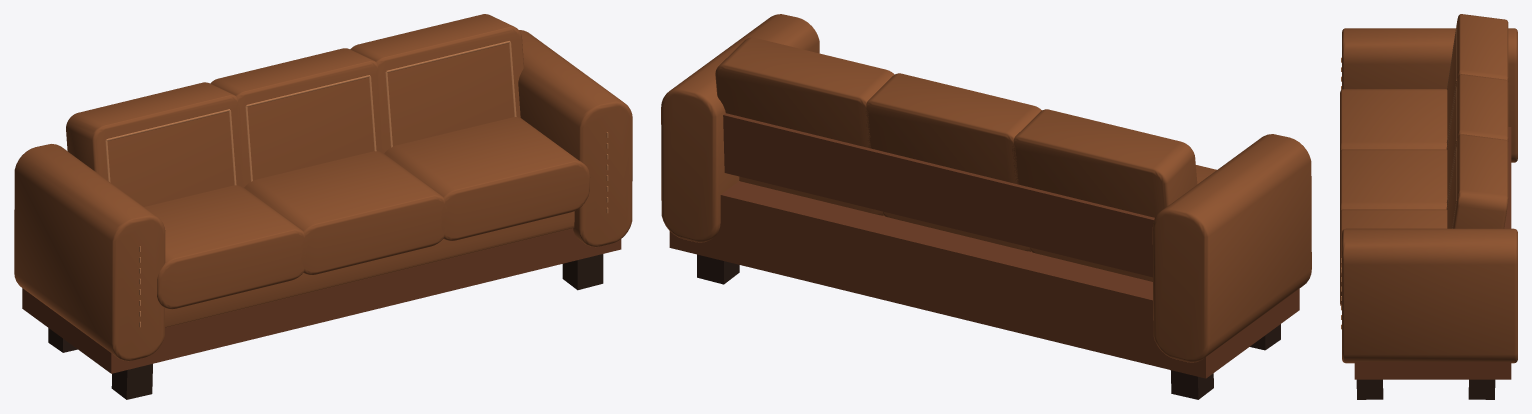
The model's file is cognac-leather-sofa-backRadius-min.glb.
The picture shows the model from 3 angles, left to right: view 1: azimuth 30°, elevation 25°; view 2: azimuth 150°, elevation 25°; view 3: azimuth 270°, elevation 25°; orthographic projection. The views are drawn at different scales.
Parts seen in each view (by area): view 1: sofa-part-28, sofa-part-4, back-cushion-3-part-0, seat-cushion-1-part-0, seat-cushion-2-part-0, back-cushion-1-part-0, back-cushion-2-part-0, seat-cushion-3-part-0, sofa-part-7, sofa-part-5, sofa-part-0, sofa-part-2; view 2: sofa-part-4, sofa-part-28, sofa-part-6, back-cushion-3-part-0, back-cushion-1-part-0, back-cushion-2-part-0, sofa-part-7, sofa-part-3, sofa-part-1, seat-cushion-3-part-0, seat-cushion-2-part-0, seat-cushion-1-part-0; view 3: sofa-part-7, sofa-part-28, seat-cushion-2-part-0, seat-cushion-3-part-0, back-cushion-1-part-0, back-cushion-2-part-0, back-cushion-3-part-0, sofa-part-4, seat-cushion-1-part-0, sofa-part-0, sofa-part-1.
Part boxes in pixels (<box>): sofa-part-28: <box>14,144,165,361</box>; sofa-part-4: <box>22,228,621,373</box>; back-cushion-3-part-0: <box>66,82,245,206</box>; seat-cushion-1-part-0: <box>384,117,590,240</box>; seat-cushion-2-part-0: <box>244,151,447,275</box>; back-cushion-1-part-0: <box>350,14,523,153</box>; back-cushion-2-part-0: <box>210,48,384,187</box>; seat-cushion-3-part-0: <box>144,185,307,309</box>; sofa-part-7: <box>518,30,632,247</box>; sofa-part-5: <box>165,211,574,327</box>; sofa-part-0: <box>562,254,603,290</box>; sofa-part-2: <box>111,364,152,399</box>; sofa-part-4: <box>669,181,1299,378</box>; sofa-part-28: <box>1152,134,1311,362</box>; sofa-part-6: <box>723,113,1154,277</box>; back-cushion-3-part-0: <box>1012,109,1197,217</box>; back-cushion-1-part-0: <box>715,37,894,148</box>; back-cushion-2-part-0: <box>866,73,1041,184</box>; sofa-part-7: <box>661,14,819,242</box>; sofa-part-3: <box>1170,370,1213,399</box>; sofa-part-1: <box>697,254,739,284</box>; seat-cushion-3-part-0: <box>1030,165,1216,281</box>; seat-cushion-2-part-0: <box>883,211,1030,251</box>; seat-cushion-1-part-0: <box>739,176,883,215</box>; sofa-part-7: <box>1342,228,1517,363</box>; sofa-part-28: <box>1342,28,1517,162</box>; seat-cushion-2-part-0: <box>1340,149,1447,212</box>; seat-cushion-3-part-0: <box>1340,89,1447,152</box>; back-cushion-1-part-0: <box>1447,134,1508,228</box>; back-cushion-2-part-0: <box>1446,74,1508,208</box>; back-cushion-3-part-0: <box>1446,14,1508,148</box>; sofa-part-4: <box>1354,127,1511,379</box>; seat-cushion-1-part-0: <box>1340,209,1447,305</box>; sofa-part-0: <box>1356,379,1383,399</box>; sofa-part-1: <box>1468,379,1495,399</box>.
Size of the model in its own units: 2.64 by 1.08 by 0.886.
